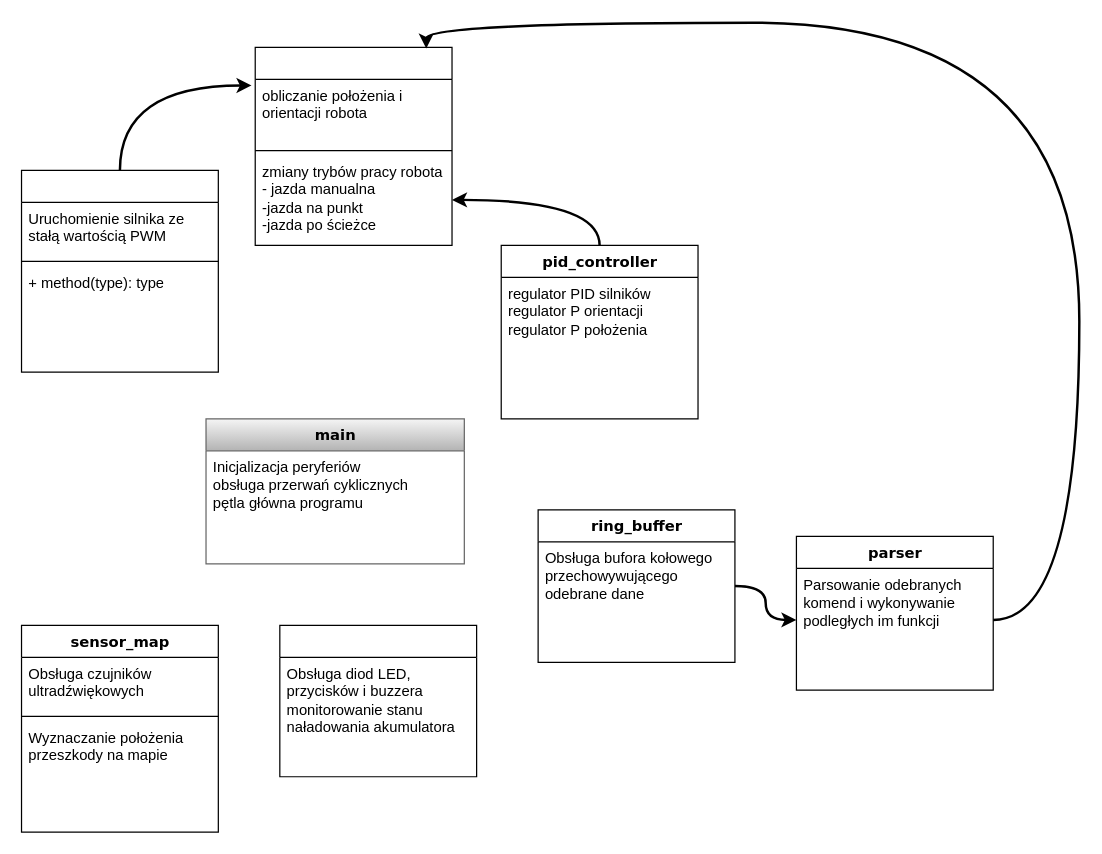
The diagram is 1102 pixels wide and 854 high, and some of its shapes have lost their labels. Each missing label, with the box of its shape:
control: (254, 46, 452, 245)
motor_encoder: (20, 169, 218, 372)
user_interface: (279, 624, 477, 777)
